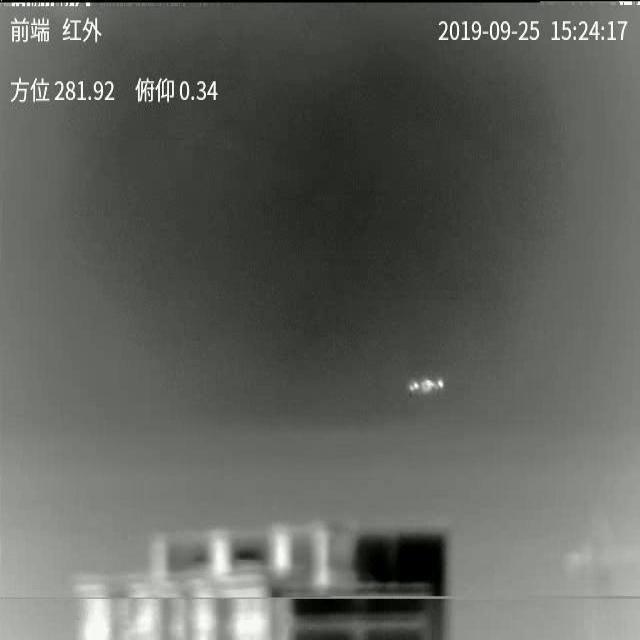drone: (409, 378, 444, 395)
